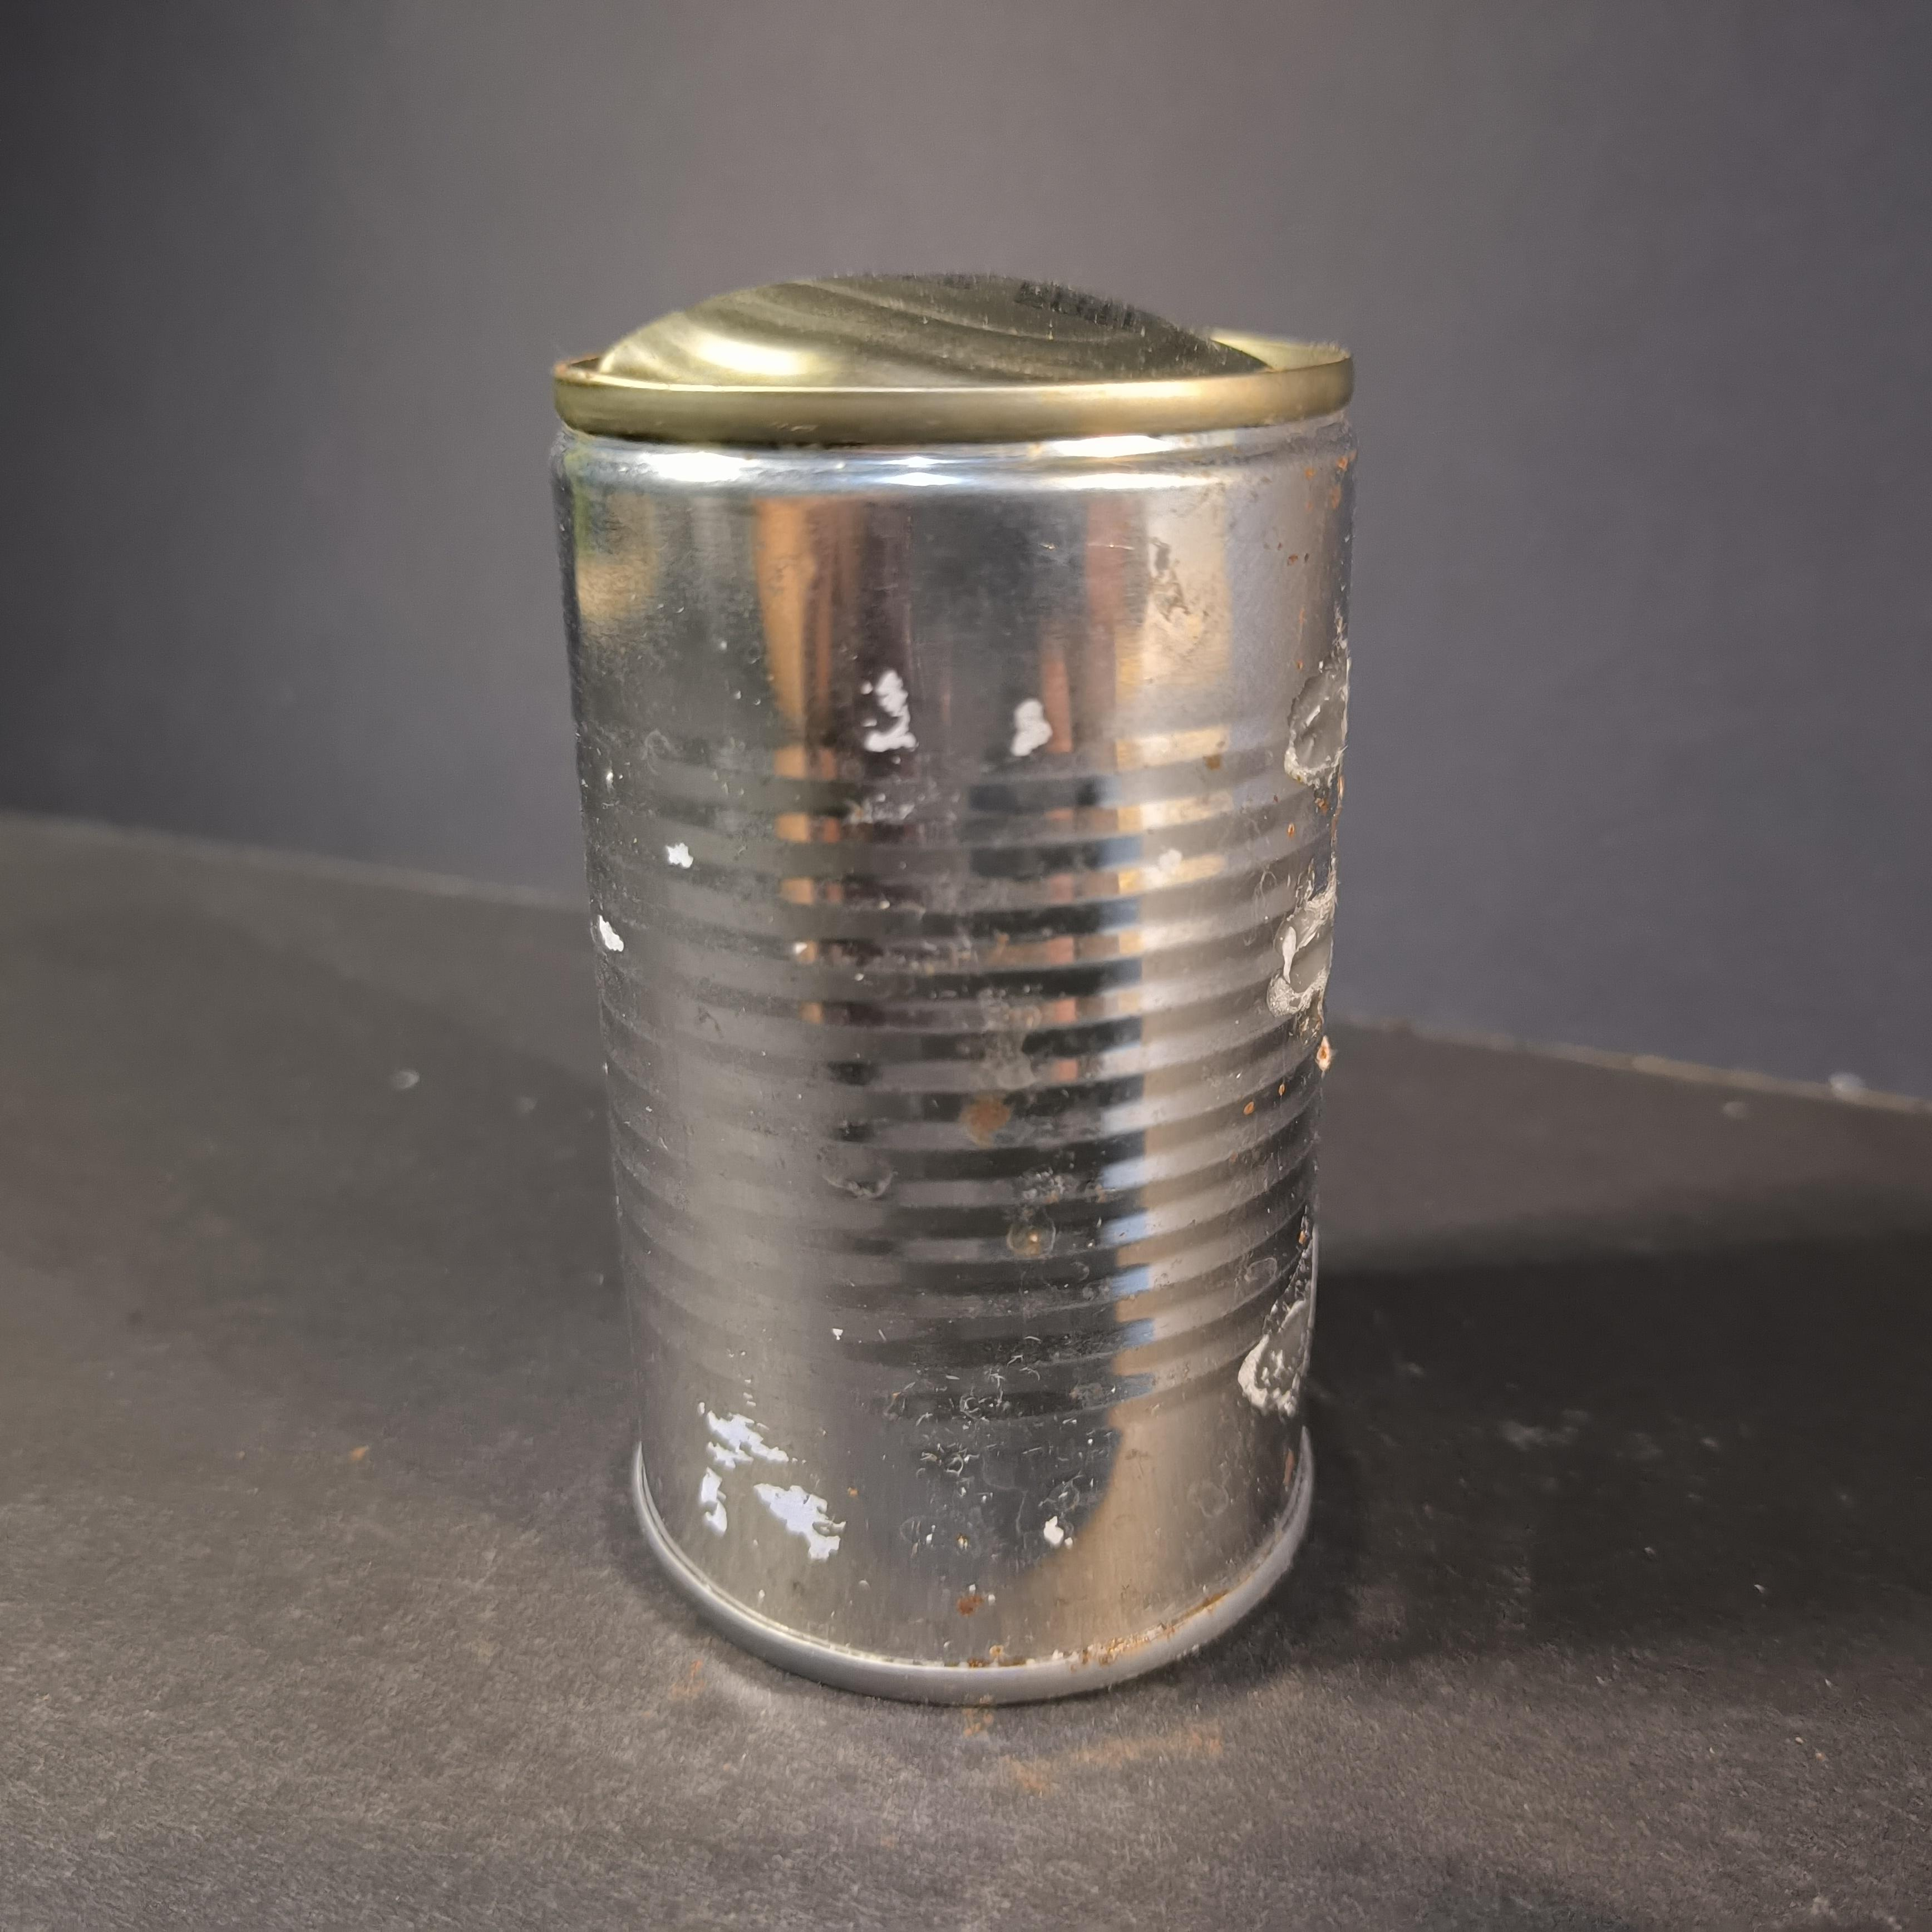Critical Defect: (544, 259, 1367, 1719)
